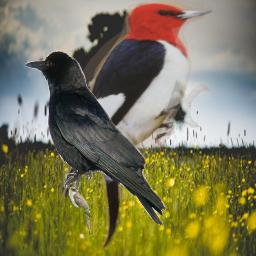Crow: (23, 50, 166, 226)
Cuckoo: (65, 185, 93, 237)
Woodpecker: (59, 0, 213, 250)
